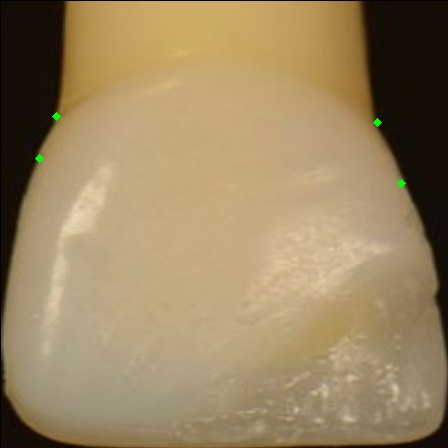coin_1: (377, 122, 397, 143)
coin_2: (401, 183, 421, 203)
coin_3: (56, 116, 76, 136)
coin_4: (39, 158, 59, 178)
